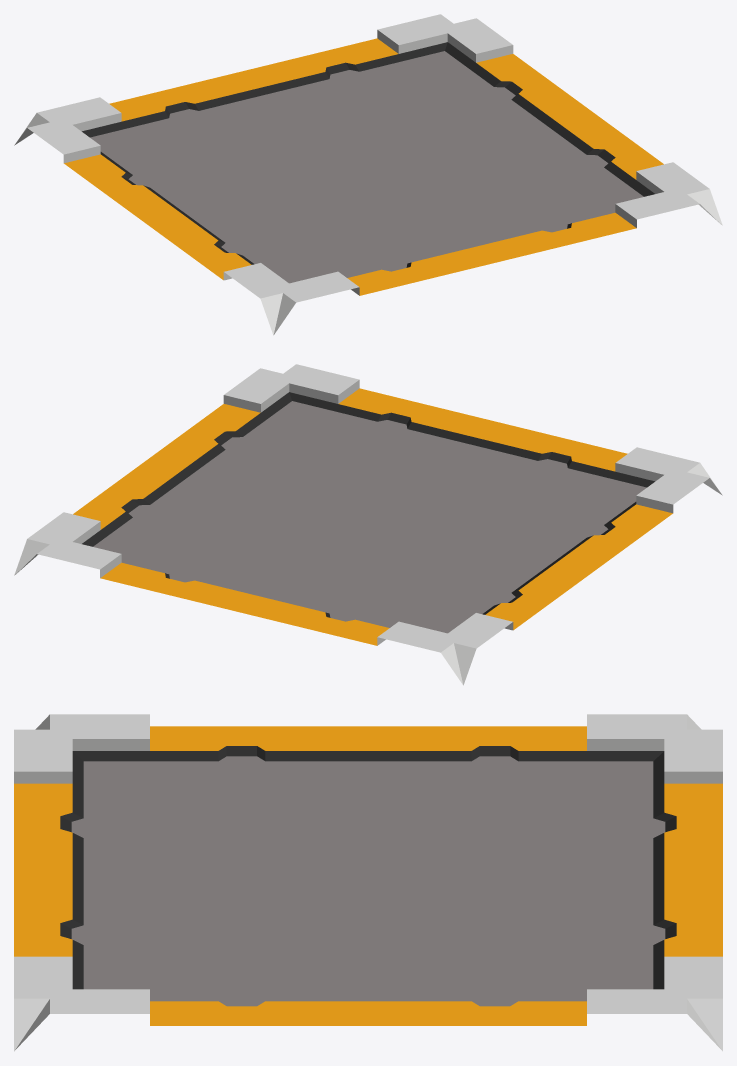
The model's file is road_center_type_02.fbx.
The picture shows the model from 3 angles, top to bottom: view 1: azimuth 30°, elevation 25°; view 2: azimuth 150°, elevation 25°; view 3: azimuth 270°, elevation 25°; orthographic projection. The views are drawn at different scales.
Visible parts, largest first — view 1: road_center_type_02; view 2: road_center_type_02; view 3: road_center_type_02.
Boxes of the visible parts, box(x1,y1,x2,y2) form: road_center_type_02: box(14, 14, 722, 335); road_center_type_02: box(14, 364, 722, 685); road_center_type_02: box(14, 714, 722, 1051).
Bounding box in the file's own units: 334 × 19.6 × 334.
1 material, 1 textured.
